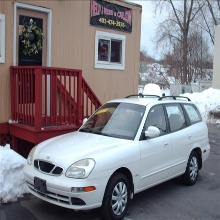no damage: (22, 97, 211, 220)
